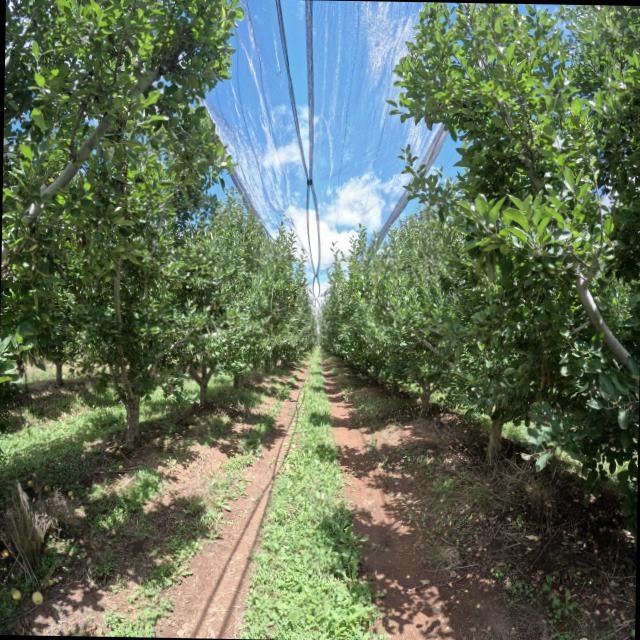-FireBlight-: (331, 50, 370, 82), (45, 173, 55, 185), (210, 300, 215, 309)
